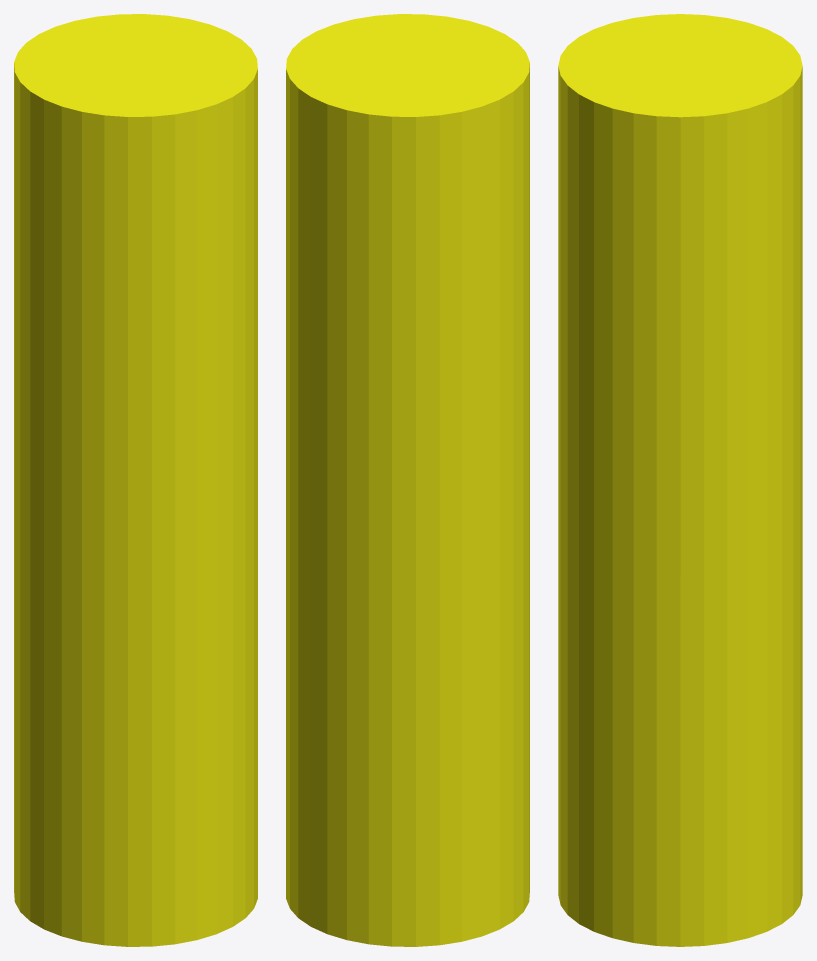
File: Tabung k  Besar.fbx
3 views of the same model, side by side, from view 1: azimuth 30°, elevation 25°; view 2: azimuth 150°, elevation 25°; view 3: azimuth 270°, elevation 25° (orthographic).
Visible parts, largest first — view 1: Cylinder.002; view 2: Cylinder.002; view 3: Cylinder.002.
Boxes of the visible parts, box(x1,y1,x2,y2) form: Cylinder.002: box(14, 14, 257, 946); Cylinder.002: box(286, 14, 529, 946); Cylinder.002: box(558, 14, 802, 946).
Size of the model in its own units: 102 by 382 by 102.
